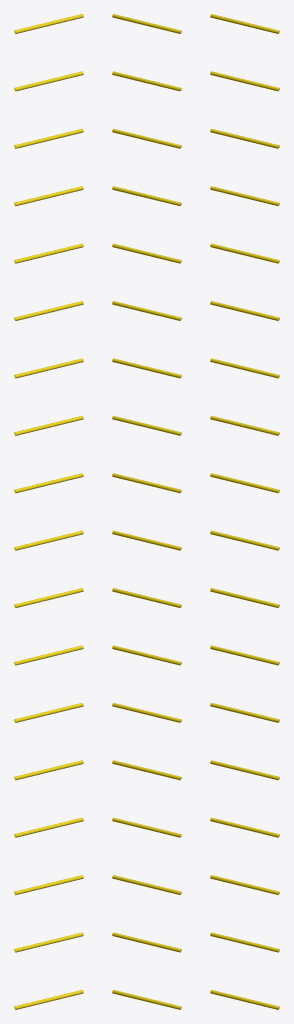
Rendered from LADDER STEPS.fbx.
3 views of the same model, side by side, from view 1: azimuth 30°, elevation 25°; view 2: azimuth 150°, elevation 25°; view 3: azimuth 330°, elevation 25° (orthographic).
Visible parts, largest first — view 1: Horizonal ladd.001; view 2: Horizonal ladd.001; view 3: Horizonal ladd.001.
Part boxes in pixels (left/top/right/bottom): Horizonal ladd.001: left=14, top=14, right=83, bottom=1009; Horizonal ladd.001: left=112, top=14, right=181, bottom=1009; Horizonal ladd.001: left=210, top=14, right=279, bottom=1009.
Bounding box in the file's own units: 54.74 × 758 × 2.78.
